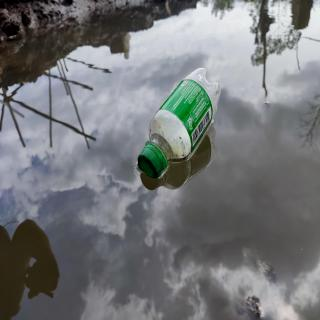bottle: (135, 65, 223, 182)
